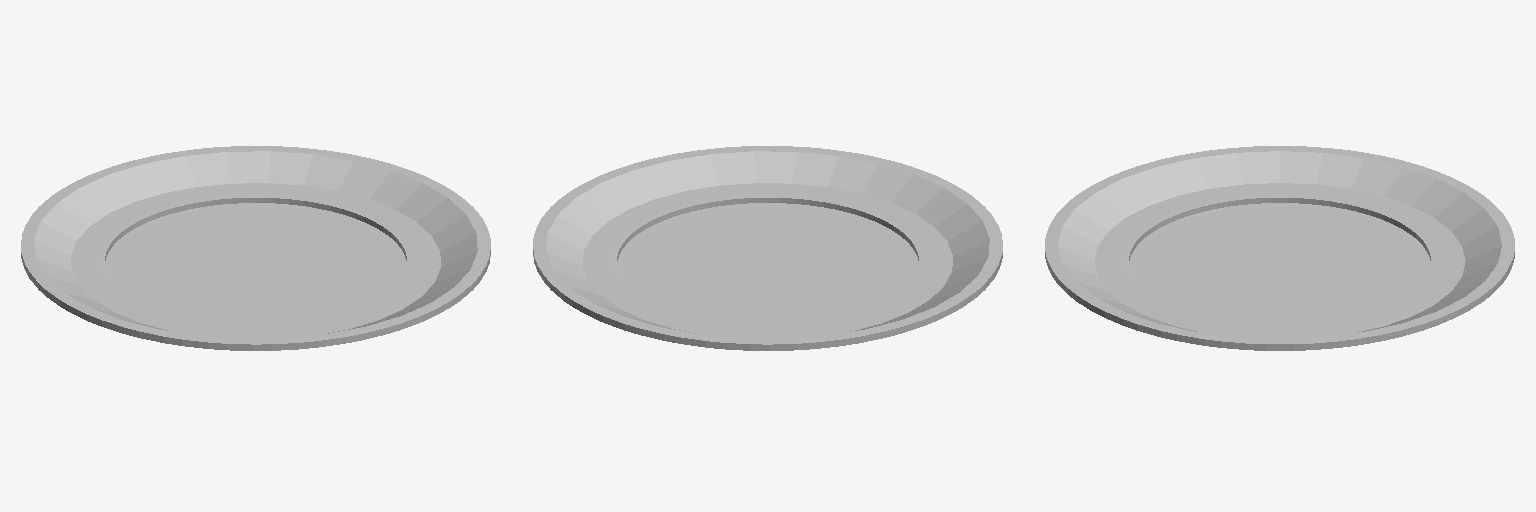
Rendered from bord !!!!!!!!!!!!!!!!!!!!!!!.obj.
3 views of the same model, side by side, from view 1: azimuth 30°, elevation 25°; view 2: azimuth 150°, elevation 25°; view 3: azimuth 270°, elevation 25° (orthographic).
Visible parts, largest first — view 1: Cylinder.004_Cylinder.005; view 2: Cylinder.004_Cylinder.005; view 3: Cylinder.004_Cylinder.005.
Part boxes in pixels (x1,y1,x2,y2): Cylinder.004_Cylinder.005: (21,146,490,350); Cylinder.004_Cylinder.005: (533,146,1002,350); Cylinder.004_Cylinder.005: (1045,146,1514,350).
Bounding box in the file's own units: 1.99 × 0.1028 × 1.99.